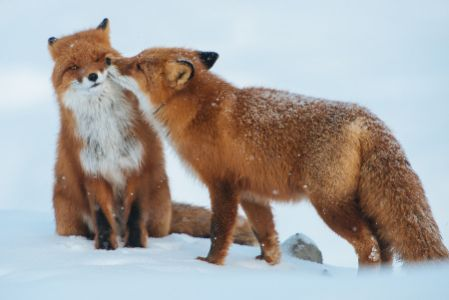fox: (107, 45, 449, 265), (44, 16, 172, 248)
